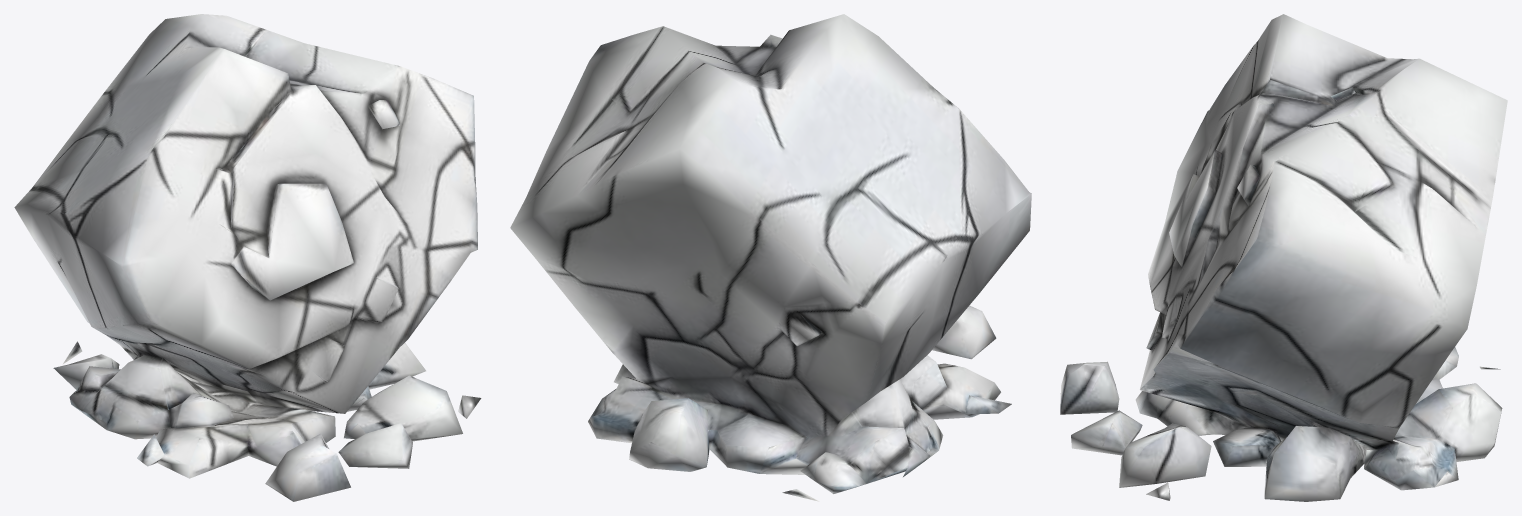
Rendered from p_stone_pillar_falling.glb.
The picture shows the model from 3 angles, left to right: view 1: azimuth 30°, elevation 25°; view 2: azimuth 150°, elevation 25°; view 3: azimuth 270°, elevation 25°; orthographic projection. The views are drawn at different scales.
Parts seen in each view (by area): view 1: Mesh_0; view 2: Mesh_0; view 3: Mesh_0.
Boxes of the visible parts, bbox=[...] form: Mesh_0: bbox=[14, 14, 481, 501]; Mesh_0: bbox=[510, 14, 1031, 501]; Mesh_0: bbox=[1060, 14, 1507, 501].
Size of the model in its own units: 1.91 by 1.8 by 1.86.
1 material, 1 textured.
